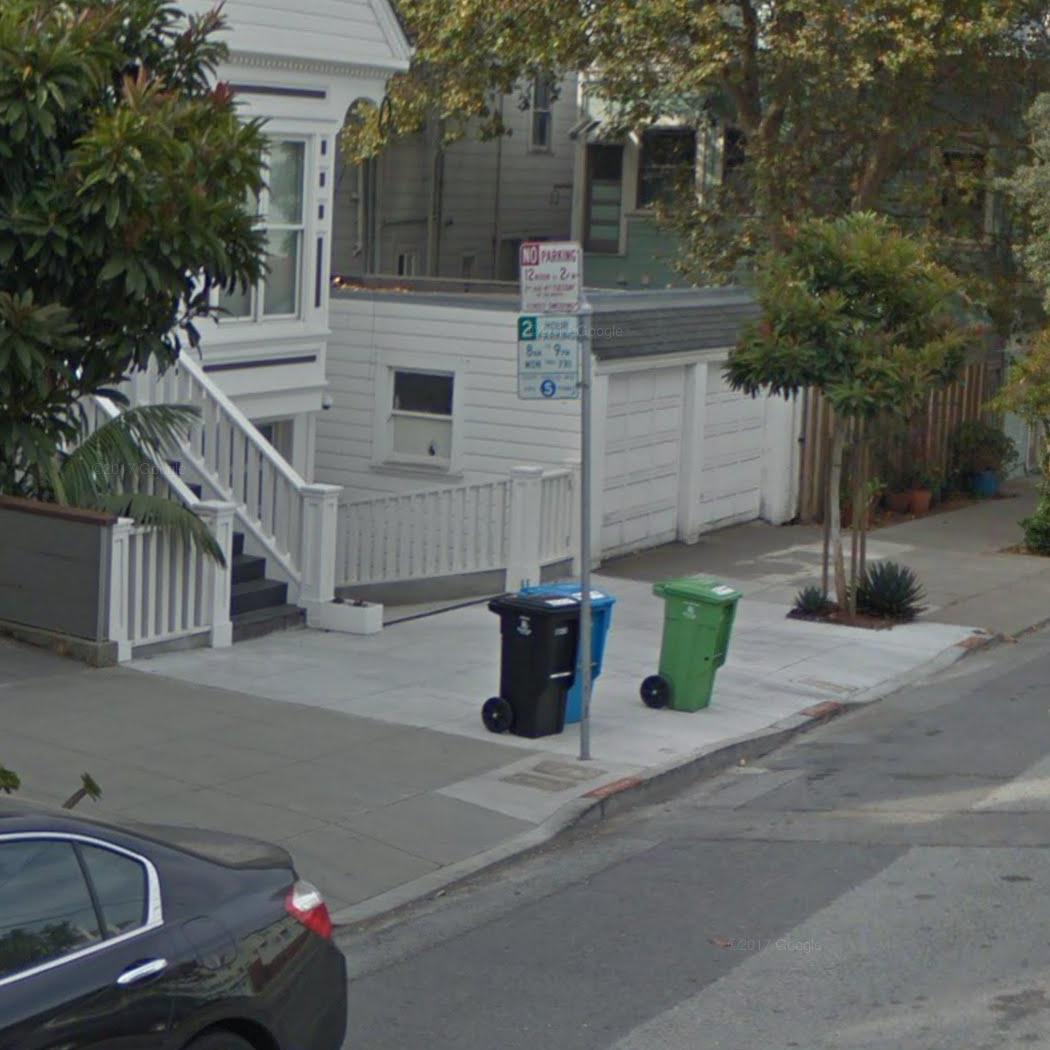2 Hour Parking: (513, 320, 588, 403)
No Parking: (518, 239, 584, 317)
